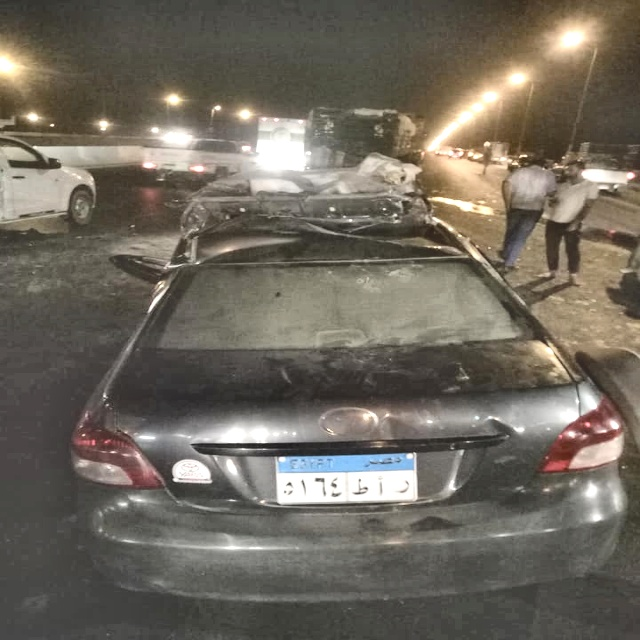License Plate: (272, 450, 419, 507)
